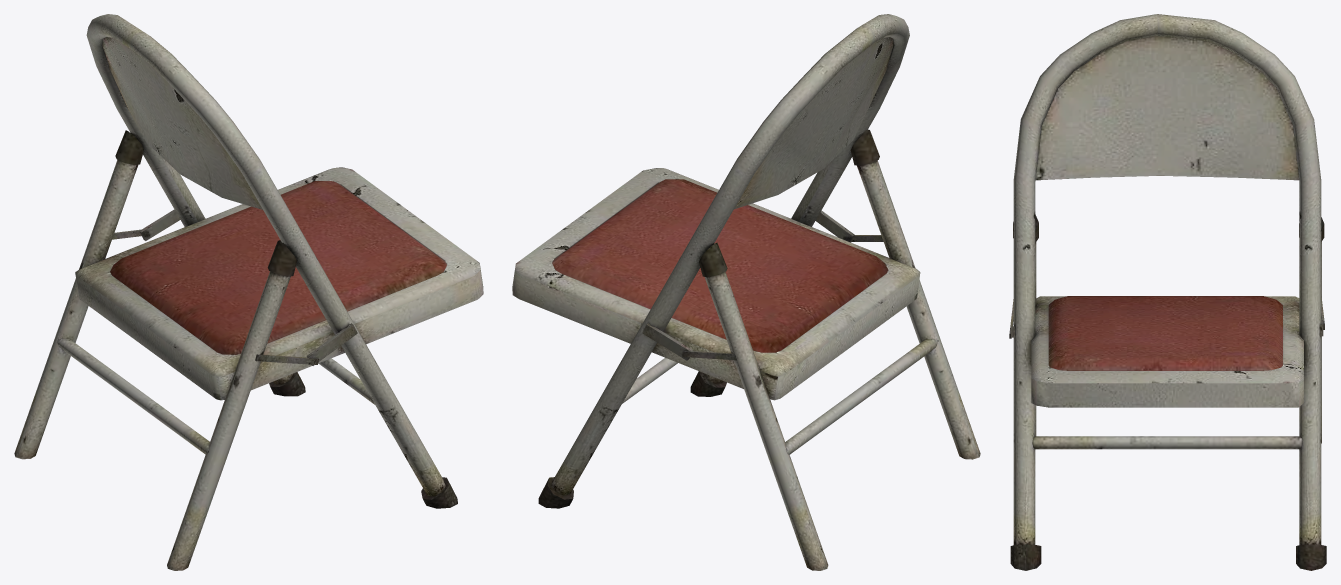
The model's file is controlroom_chair001a.glb.
3 renders of one model, left to right at view 1: azimuth 30°, elevation 25°; view 2: azimuth 150°, elevation 25°; view 3: azimuth 270°, elevation 25°, orthographic. The views are drawn at different scales.
Parts seen in each view (by area): view 1: 0_controlroom_chair001a; view 2: 0_controlroom_chair001a; view 3: 0_controlroom_chair001a.
Part boxes in pixels (<box>): 0_controlroom_chair001a: <box>14,14,483,570</box>; 0_controlroom_chair001a: <box>512,14,980,570</box>; 0_controlroom_chair001a: <box>1009,14,1326,570</box>.
Size of the model in its own units: 0.7279 by 1 by 0.6506.
Materials: 1 (1 with a texture image).
